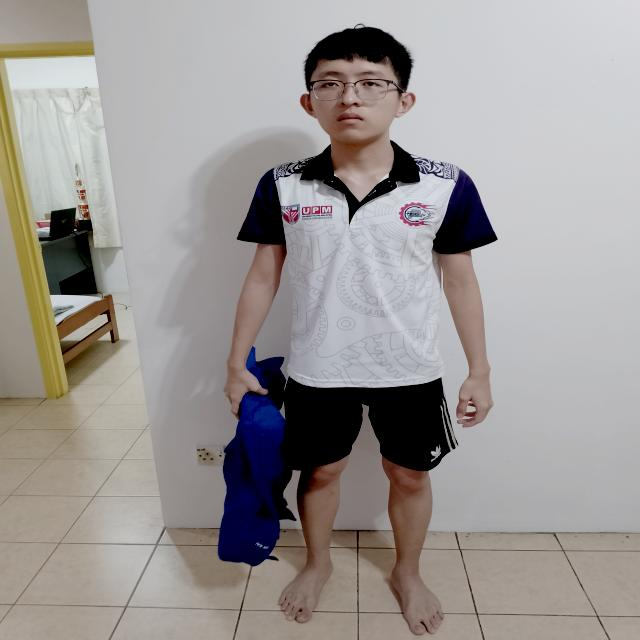person_without_labcoat: (219, 27, 496, 634)
